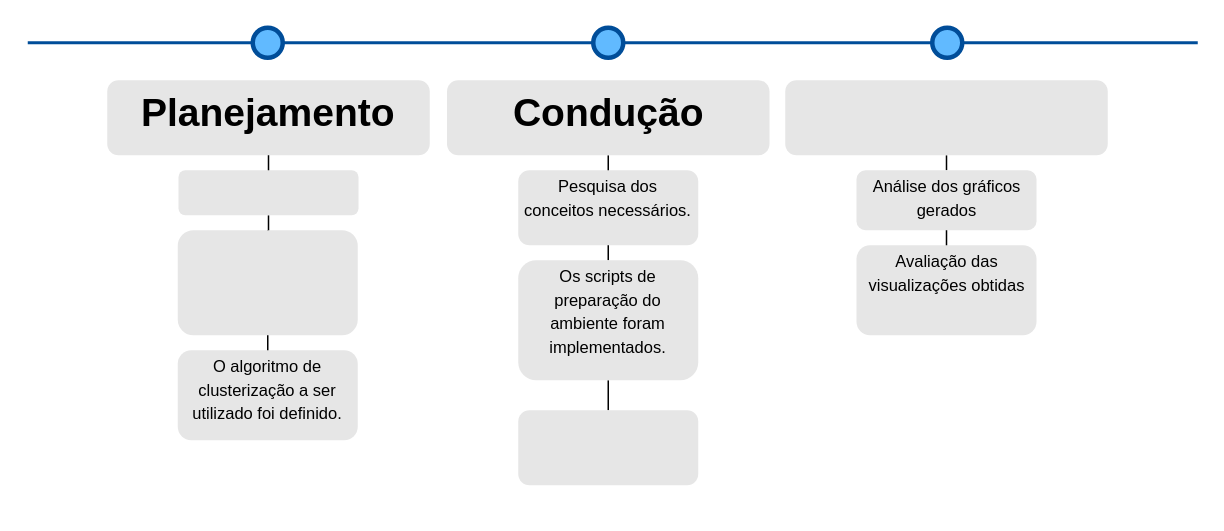
Image size: 1224x531. Some labels were removed from this diagram. Here are the shapes that lost their labels. From the top down, the centre of each, then its label:
At [945,117]: "Resultados".
At [268,192]: "O tema do artigo foi definido;".
At [267,282]: "Os critérios e pressuposições para a elaboração do enredo foram definidos.".
At [608,447]: "A plotagem dos gráficos e visualizações".
